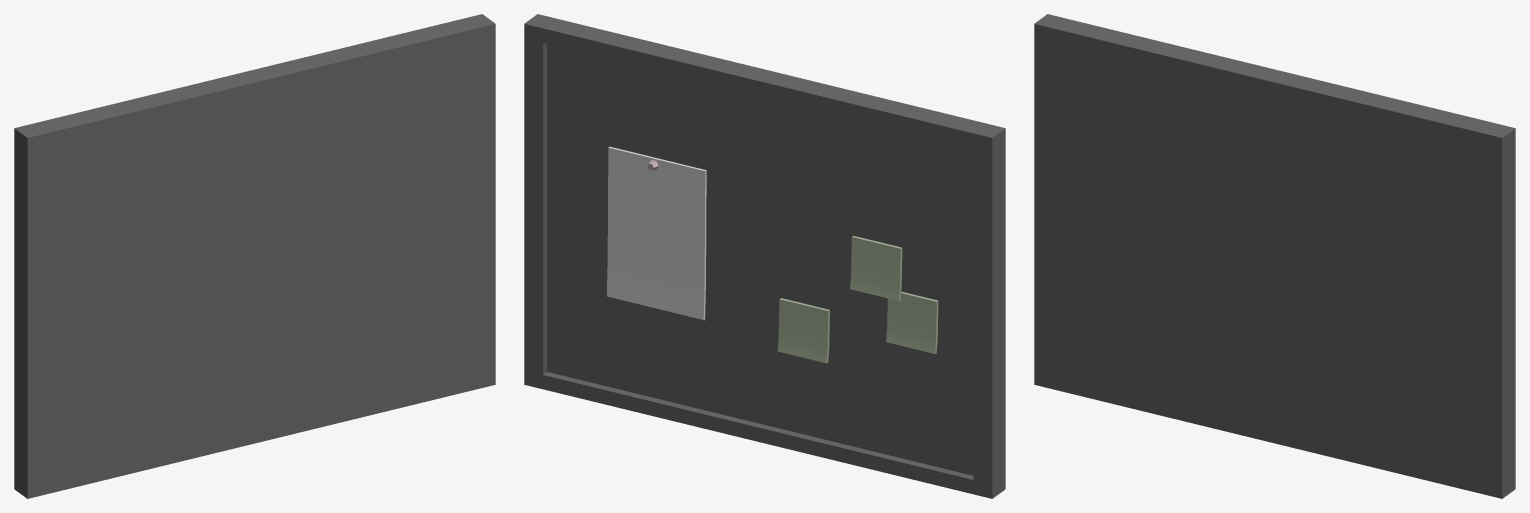
The model's file is prikbord.fbx.
The picture shows the model from 3 angles, left to right: view 1: azimuth 30°, elevation 25°; view 2: azimuth 150°, elevation 25°; view 3: azimuth 330°, elevation 25°; orthographic projection.
Visible parts, largest first — view 1: prikbord:pCube12; view 2: prikbord:pCube12, prikbord:pCube16, prikbord:pCube17, prikbord:pCube18, prikbord:pCube15; view 3: prikbord:pCube12.
Part boxes in pixels (x1,y1,x2,y2): prikbord:pCube12: (14, 14, 495, 498); prikbord:pCube12: (524, 14, 1005, 498); prikbord:pCube16: (606, 146, 706, 320); prikbord:pCube17: (850, 235, 902, 300); prikbord:pCube18: (777, 298, 829, 363); prikbord:pCube15: (886, 291, 938, 353); prikbord:pCube12: (1034, 14, 1515, 498).
Size of the model in its own units: 2.13 by 1.57 by 0.1222.
